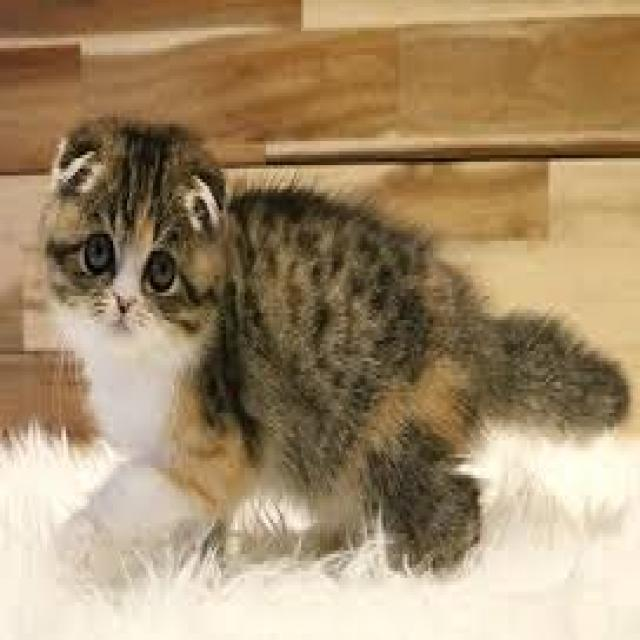cat-face: (0, 51, 278, 464)
